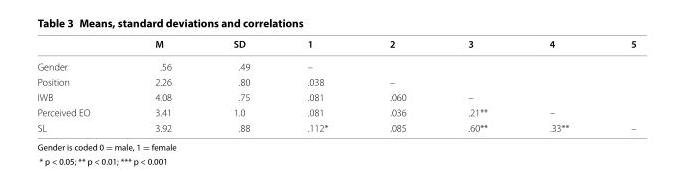table: (36, 36, 635, 133)
table column: (36, 36, 121, 133), (517, 36, 599, 133), (436, 36, 517, 133), (121, 36, 201, 133), (278, 36, 358, 133), (358, 36, 436, 133), (201, 36, 278, 133), (599, 36, 635, 133)
table column header: (36, 36, 635, 54)
table row: (36, 54, 635, 73), (36, 36, 635, 54), (36, 73, 635, 89), (36, 89, 635, 104), (36, 104, 635, 119), (36, 119, 635, 133)
